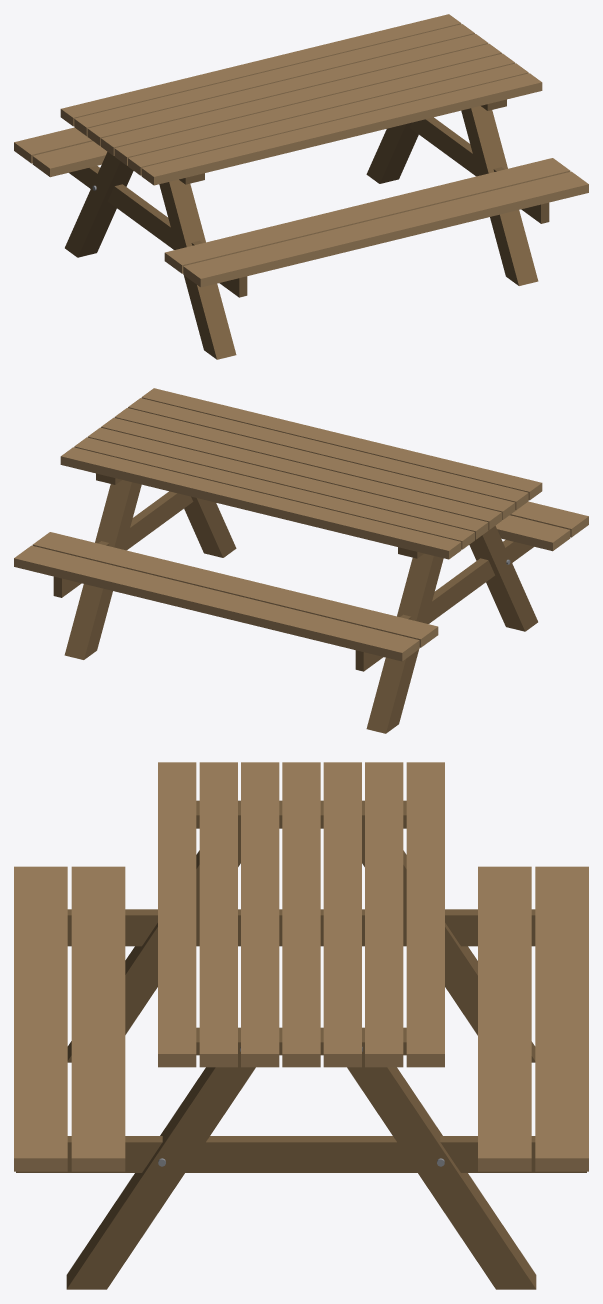
The model's file is picnic.glb.
3 renders of one model, top to bottom at view 1: azimuth 30°, elevation 25°; view 2: azimuth 150°, elevation 25°; view 3: azimuth 270°, elevation 25°, orthographic. The views are drawn at different scales.
Parts seen in each view (by area): view 1: frame; view 2: frame; view 3: frame.
Part boxes in pixels (x1,y1,x2,y2): frame: [14, 14, 588, 359]; frame: [14, 388, 588, 733]; frame: [14, 762, 588, 1289].
Bounding box in the file's own units: 1.8 × 0.75 × 1.5.
